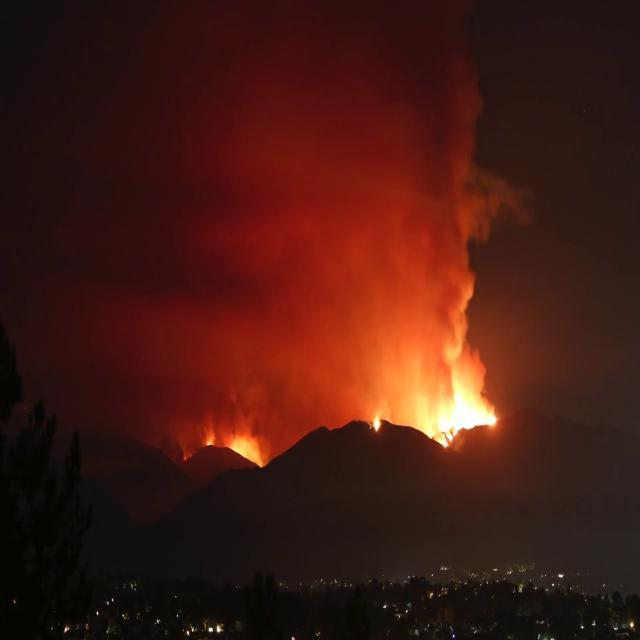Fire: (436, 389, 496, 446), (232, 432, 262, 464), (370, 417, 380, 430), (204, 440, 213, 447)
Smoke: (101, 29, 496, 463), (436, 38, 534, 264), (438, 256, 480, 384)
